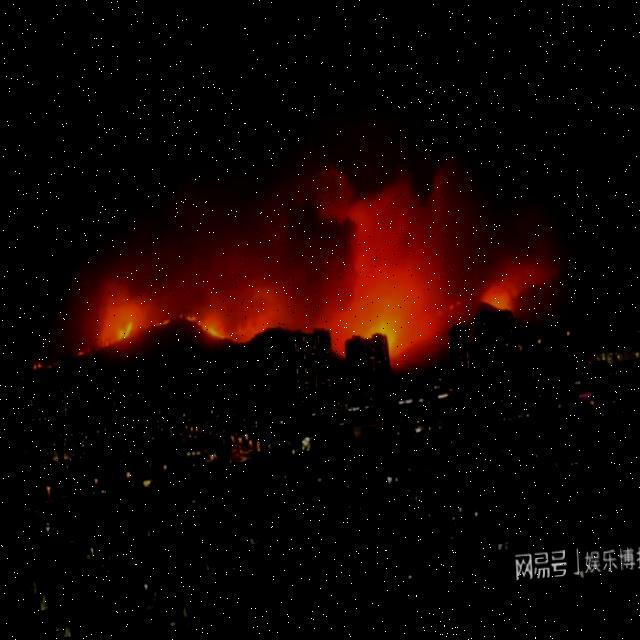Fire: (352, 318, 399, 368), (169, 309, 223, 347), (474, 288, 512, 324), (106, 318, 135, 350), (148, 314, 166, 334)
